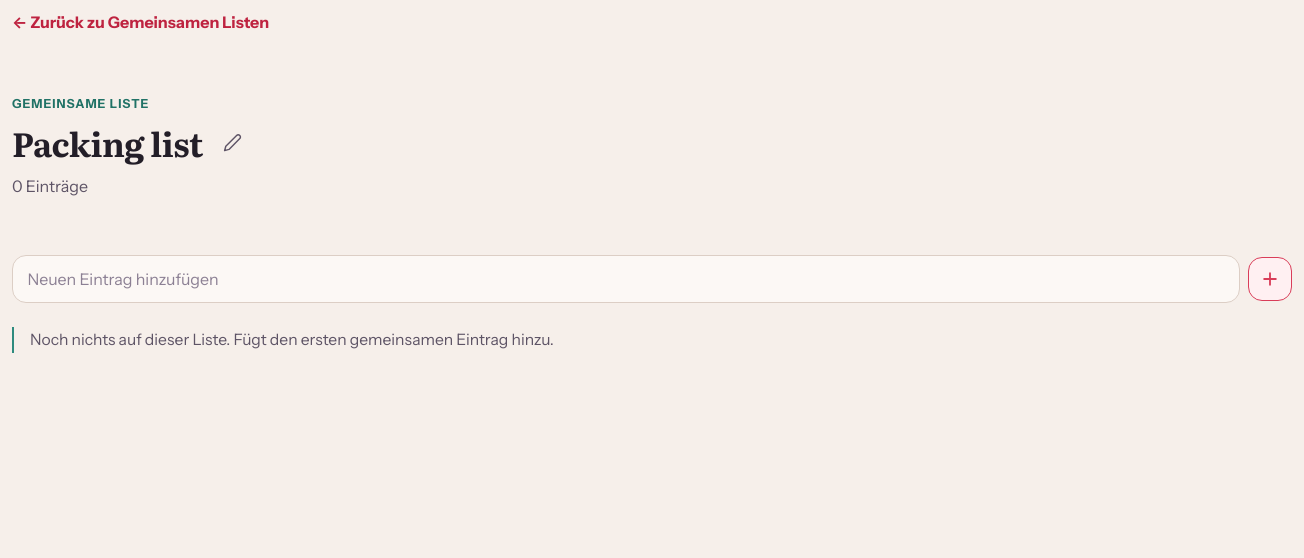
Scenario: CollectionProductPage › focuses the successor after a successful Collection delete
Click the button named "Bearbeiten" at point(233, 143), box [211, 121, 255, 165]
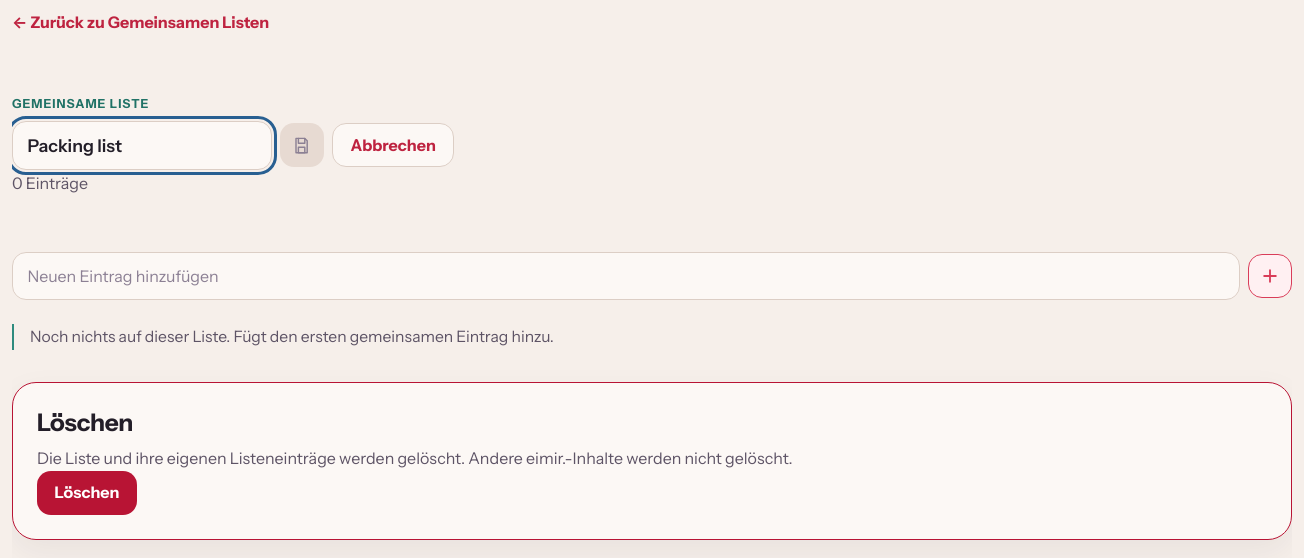
Click the button "Löschen" at point(87, 493), box [37, 471, 137, 515]
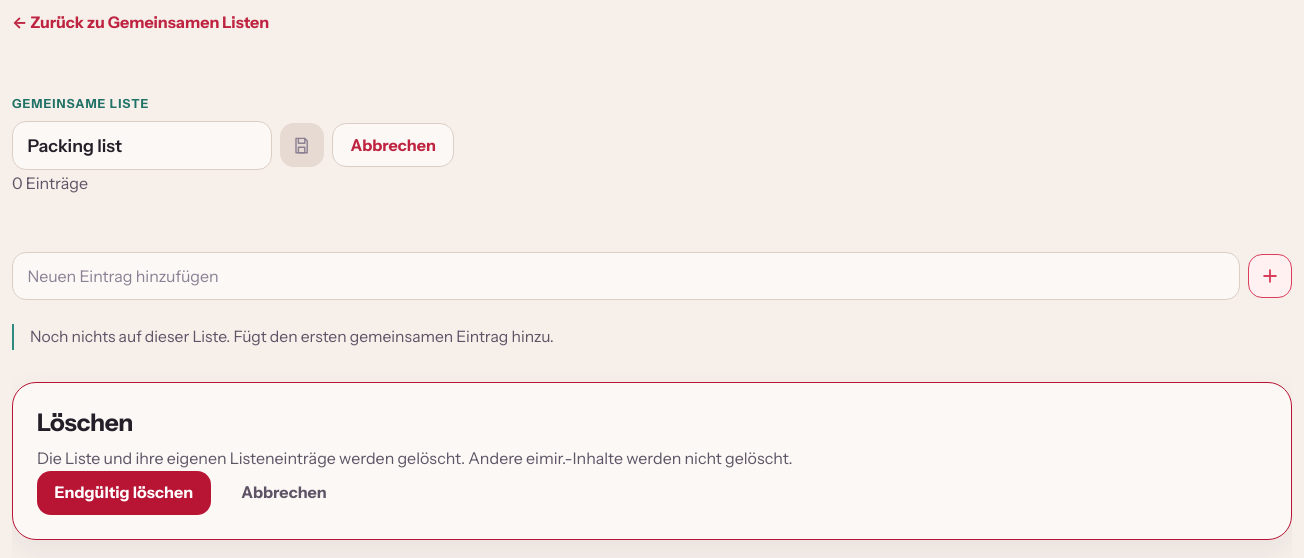
Click the button "Endgültig löschen" at point(124, 493), box [37, 471, 211, 515]
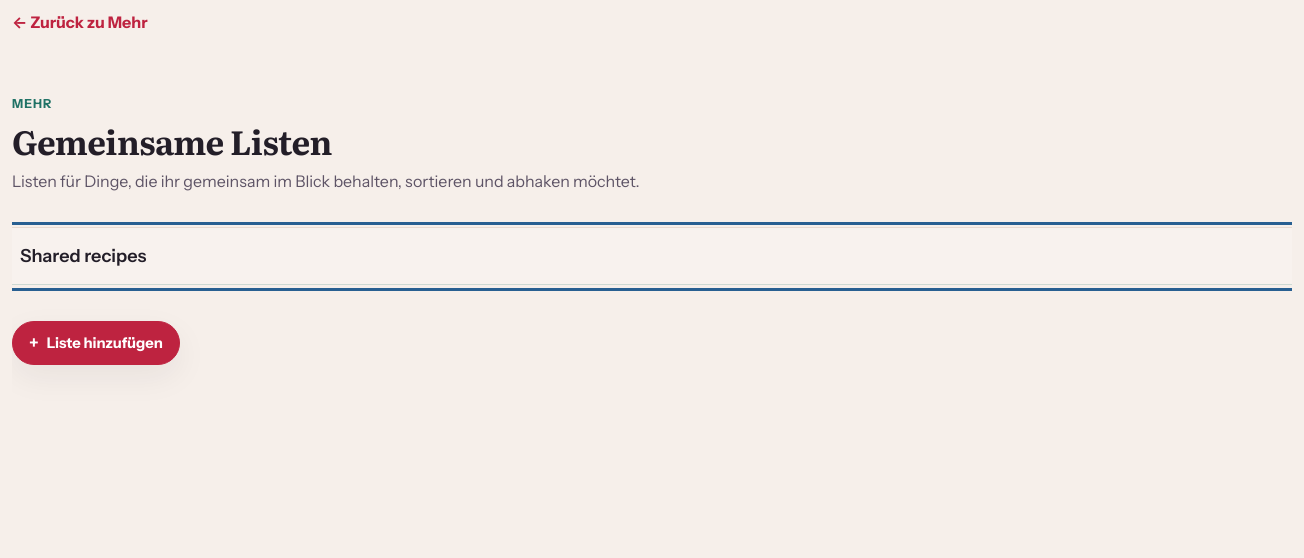
Check: the link "Shared recipes" is shown, box [12, 228, 1292, 285]
